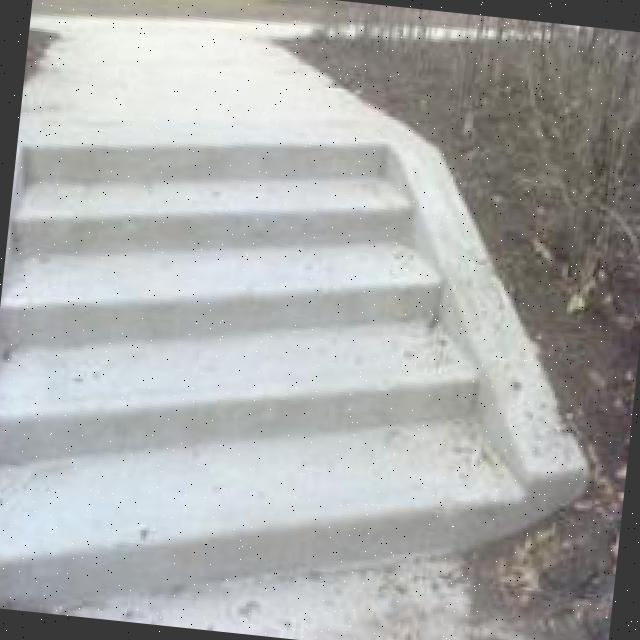stairs: (0, 66, 633, 537)
